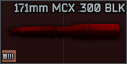MCX .300 BLK 171mm barrel: (0, 0, 127, 64)
